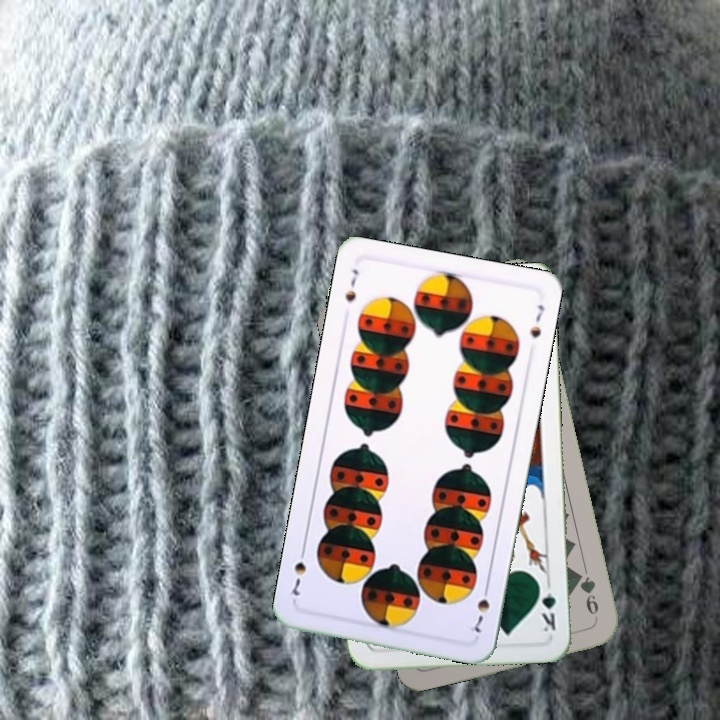G9: (572, 568, 601, 624)
GK: (535, 577, 559, 634)
S7: (470, 580, 492, 635), (341, 265, 361, 305)
